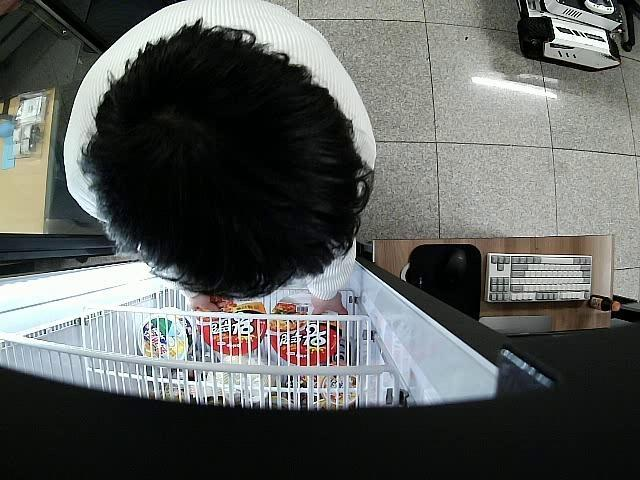10_wangTtukkeong: (269, 294, 345, 366), (198, 296, 266, 355)
